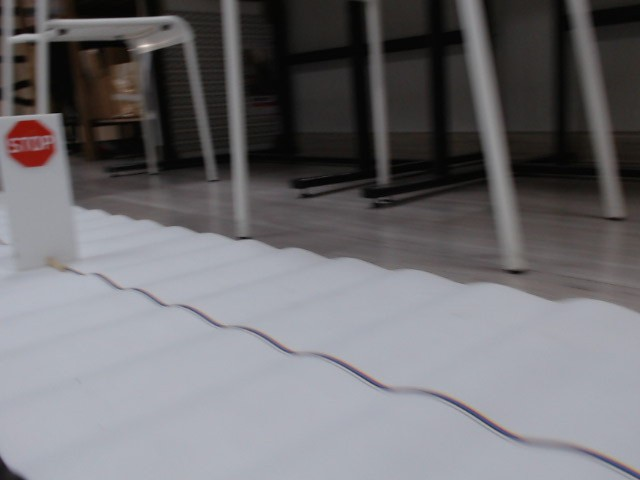Stop: (5, 119, 58, 168)
